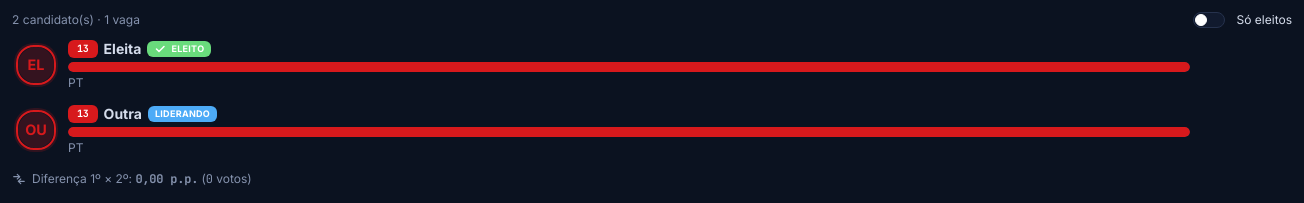
Scenario: scoreboard › keeps only the elected when asked
Expected: the text "Outra" is shown, [104, 104, 142, 124]
What coordinates should you click on to do the following:
click the switch labelled "Só eleitos"
I would click on:
 (1242, 20)
Its box is [1193, 12, 1292, 28].
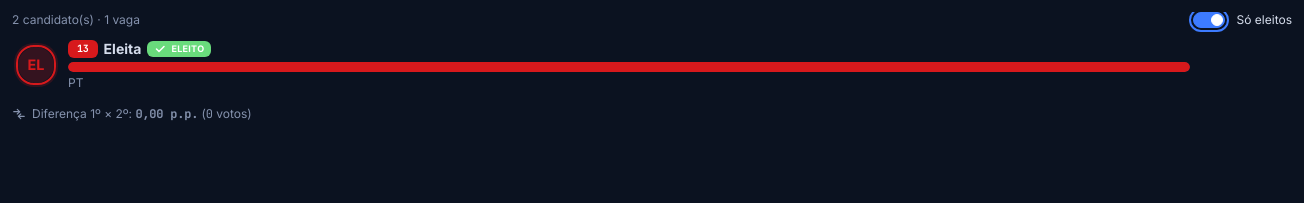
Expected: the text "Eleita" is shown, [104, 39, 141, 59]
Expected: the link "Outra" is gone
